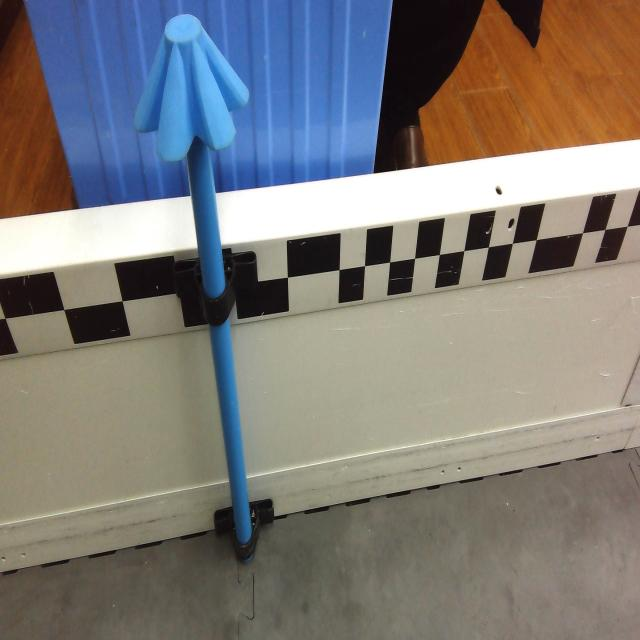zblue-Stake-Head: (136, 14, 250, 164)
